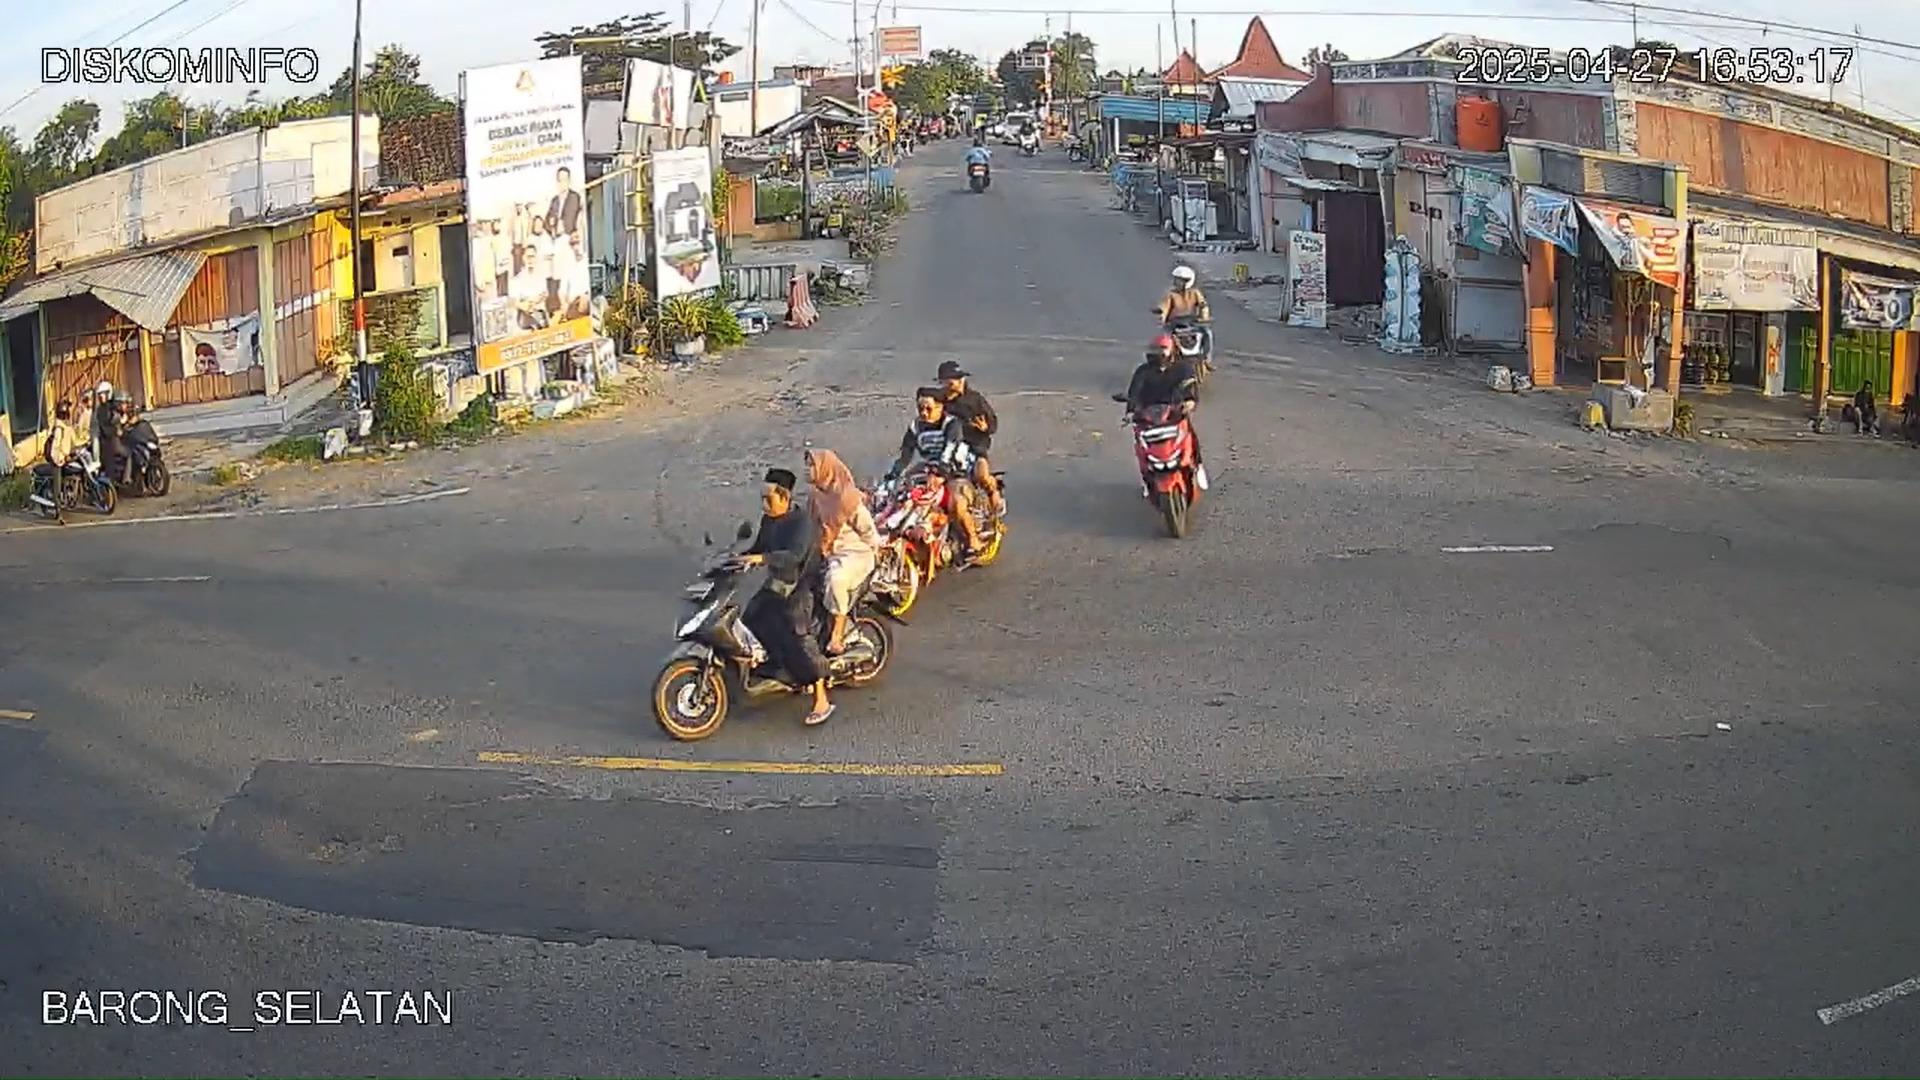Motor: (649, 534, 897, 741), (41, 378, 175, 520), (890, 378, 992, 562), (1114, 390, 1209, 538)
